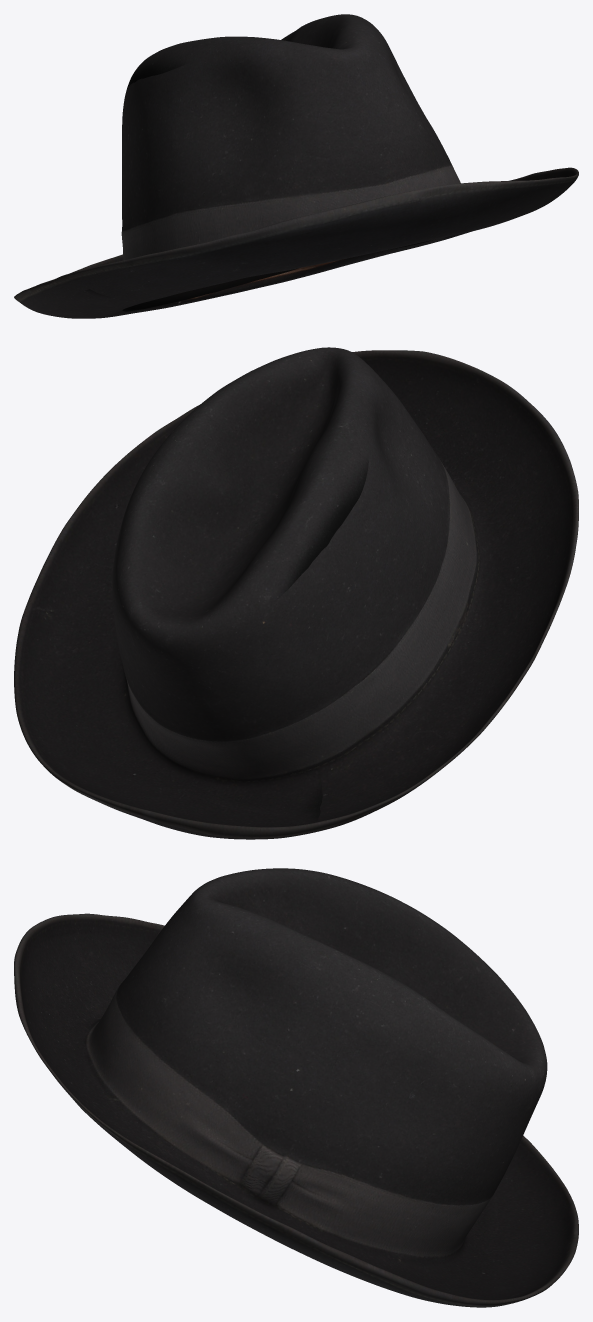
The model's file is hat.glb.
3 renders of one model, top to bottom at view 1: azimuth 30°, elevation 25°; view 2: azimuth 150°, elevation 25°; view 3: azimuth 270°, elevation 25°, orthographic. The views are drawn at different scales.
Parts seen in each view (by area): view 1: Kapelusz_Karola_Wojtyly_defaultMat_0; view 2: Kapelusz_Karola_Wojtyly_defaultMat_0; view 3: Kapelusz_Karola_Wojtyly_defaultMat_0.
Boxes of the visible parts, x1,y1,x2,y2 form: Kapelusz_Karola_Wojtyly_defaultMat_0: [14, 14, 578, 318]; Kapelusz_Karola_Wojtyly_defaultMat_0: [14, 347, 578, 839]; Kapelusz_Karola_Wojtyly_defaultMat_0: [14, 868, 578, 1307].
Size of the model in its own units: 383 by 269 by 378.
1 material, 1 textured.
